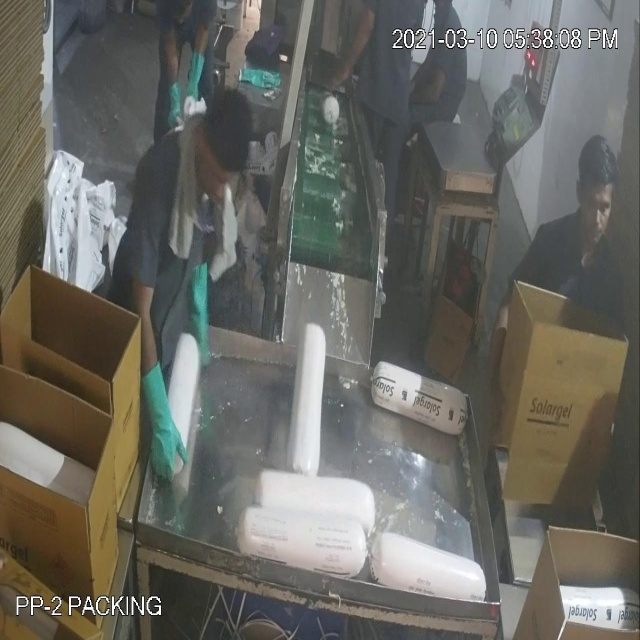Sin_guantes: (474, 281, 524, 476), (320, 6, 385, 110)
